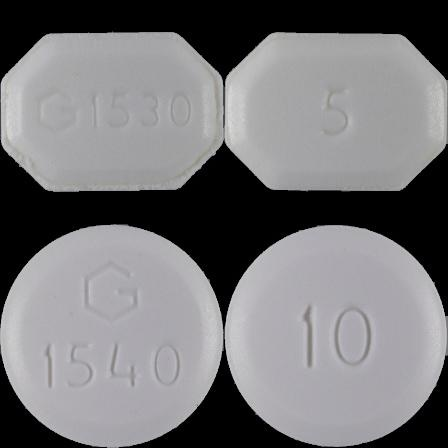67296-0672: (0, 0, 224, 224)
